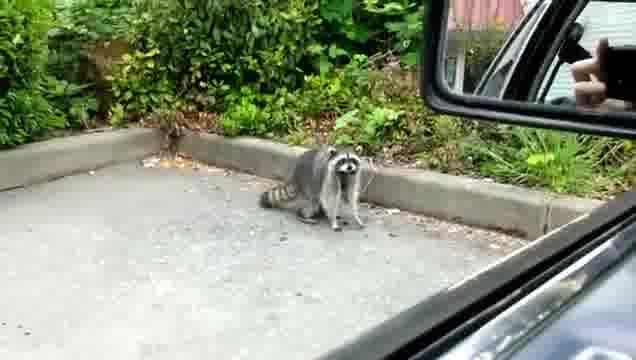raccoon: (261, 144, 368, 233)
